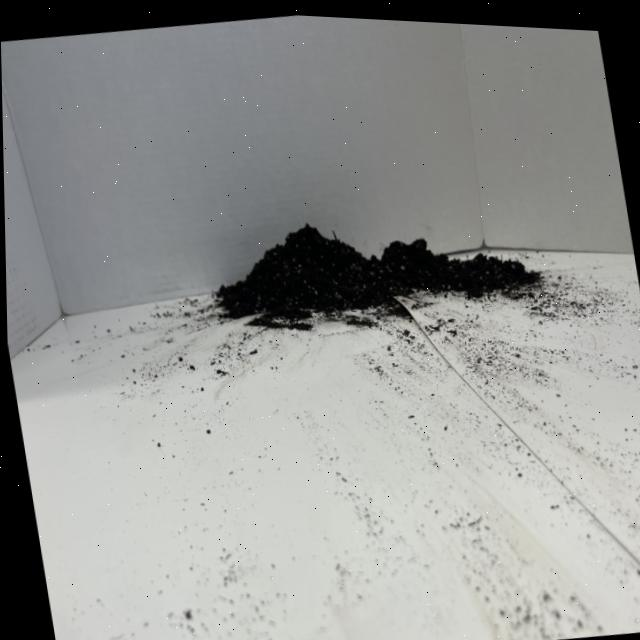soil: (200, 183, 549, 354)
